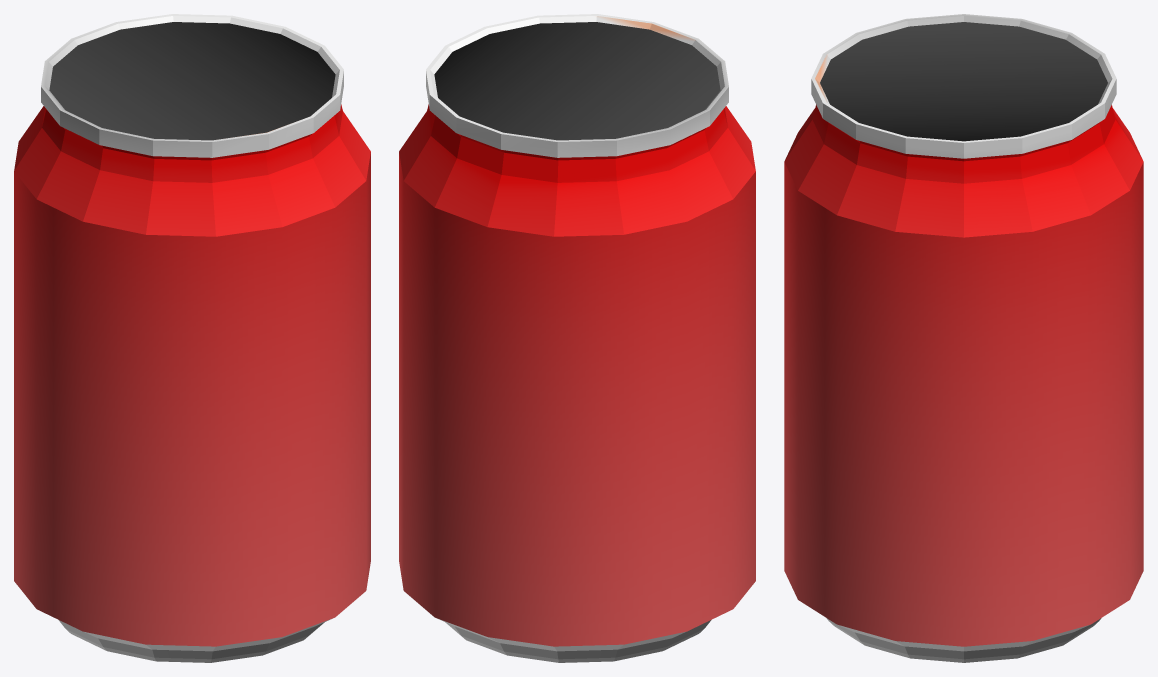
Rendered from Single_SodaCan.fbx.
3 renders of one model, left to right at view 1: azimuth 30°, elevation 25°; view 2: azimuth 150°, elevation 25°; view 3: azimuth 270°, elevation 25°, orthographic.
Parts seen in each view (by area): view 1: soda_can59; view 2: soda_can59; view 3: soda_can59.
Part boxes in pixels (left/top/right/bottom): soda_can59: left=14, top=14, right=370, bottom=662; soda_can59: left=399, top=14, right=755, bottom=662; soda_can59: left=784, top=14, right=1143, bottom=662.
Size of the model in its own units: 8.96 by 14.45 by 8.96.
Materials: 1 (1 with a texture image).
